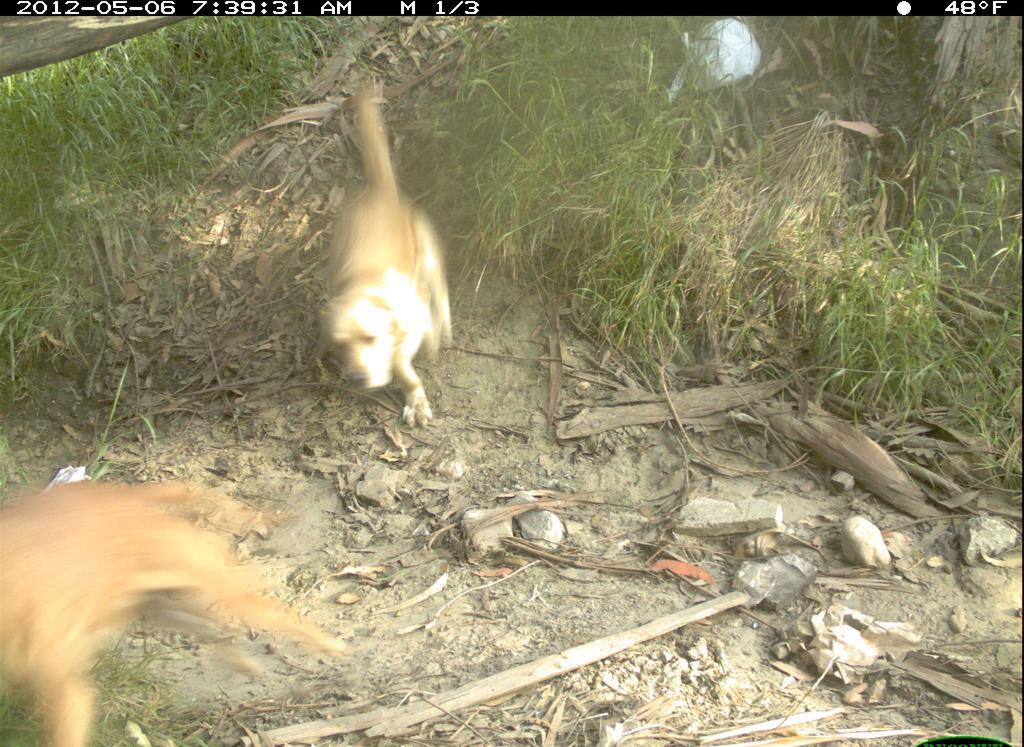dog: (1, 472, 341, 747), (308, 71, 473, 433)
